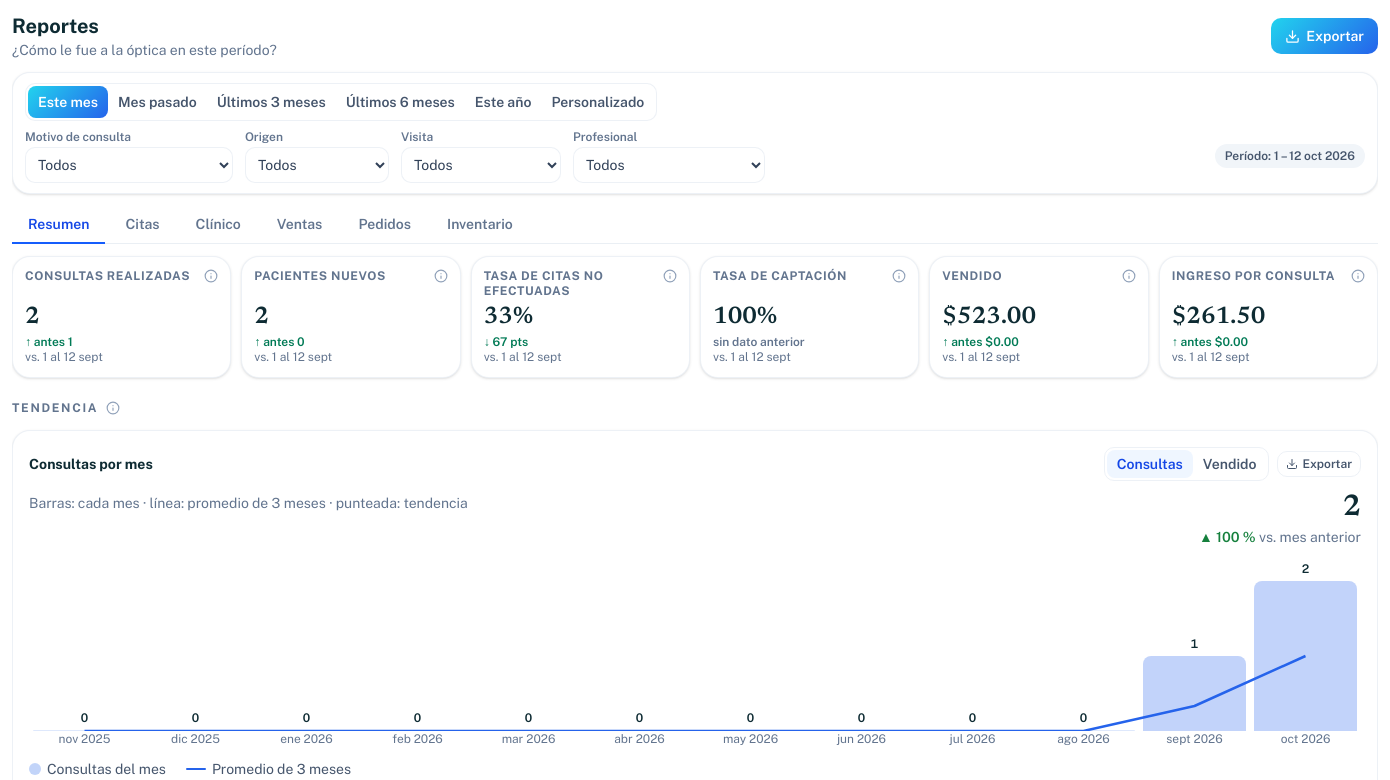
Scenario: Reportes: Ventas › el embudo cuenta a los atendidos con receta y la tasa de captación de Resumen es la misma
This screenshot has width=1390, height=780.
Click the tab "Ventas". click: click(300, 225)
box: [261,206,338,244]
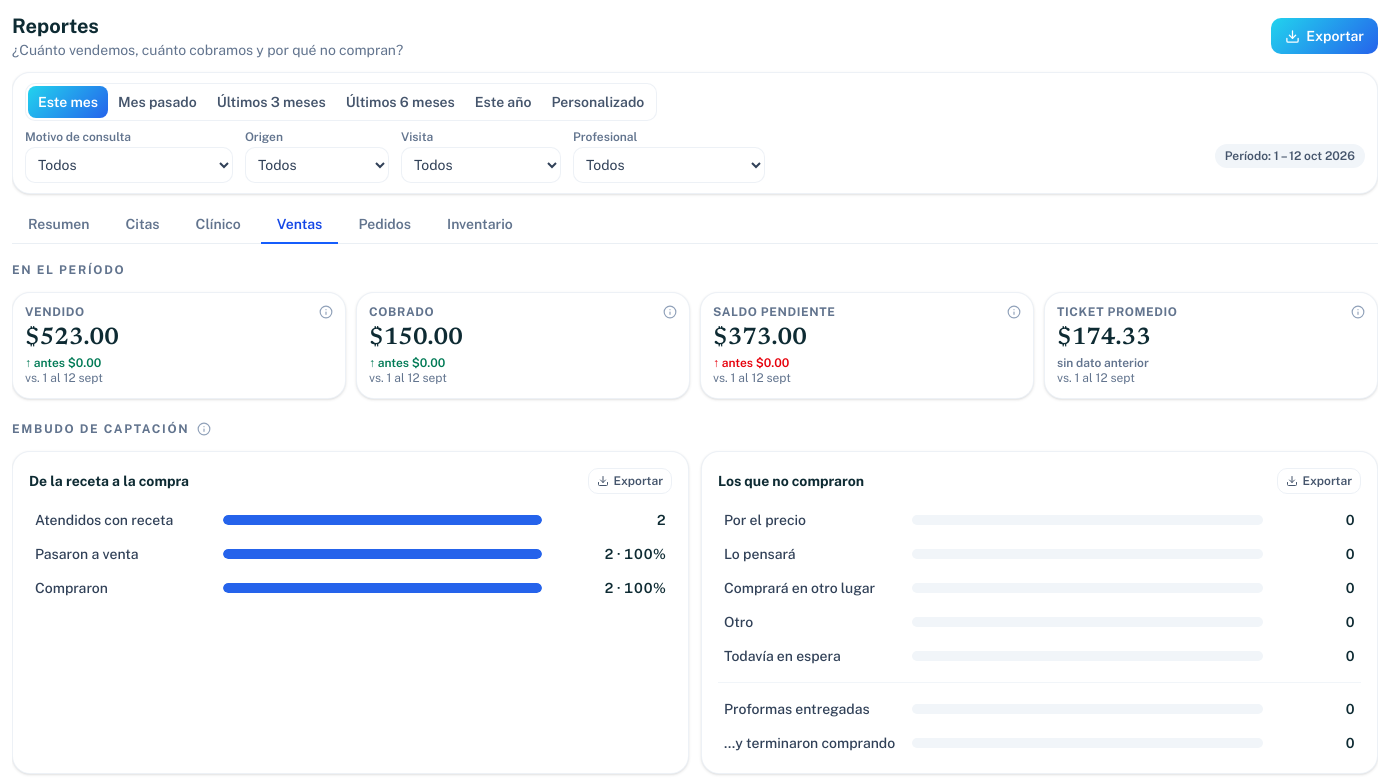
Now the button with aria-label "Compraron: 2 de 2 atendidos con receta (100%)" is shown, box [29,574,672,602]
